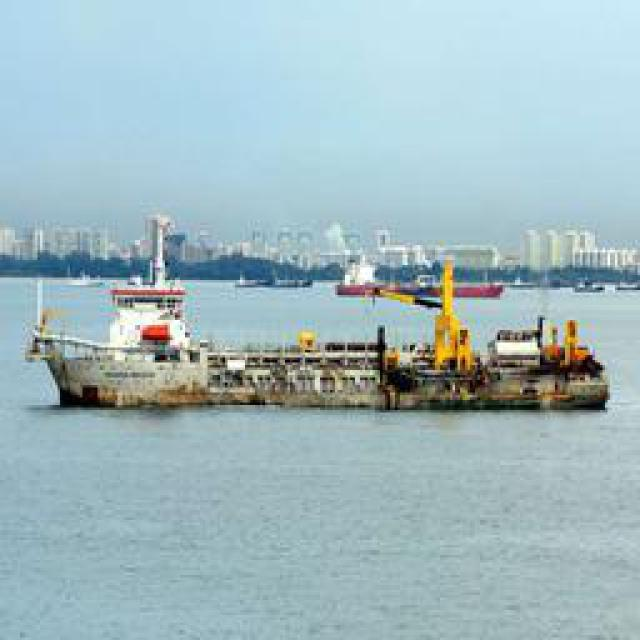Ship: (29, 285, 611, 419)
